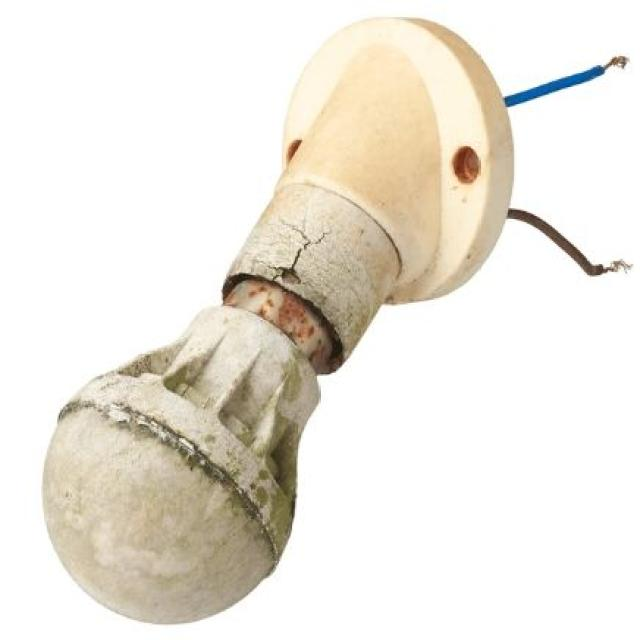electronic: (38, 12, 631, 624), (40, 302, 320, 624)
